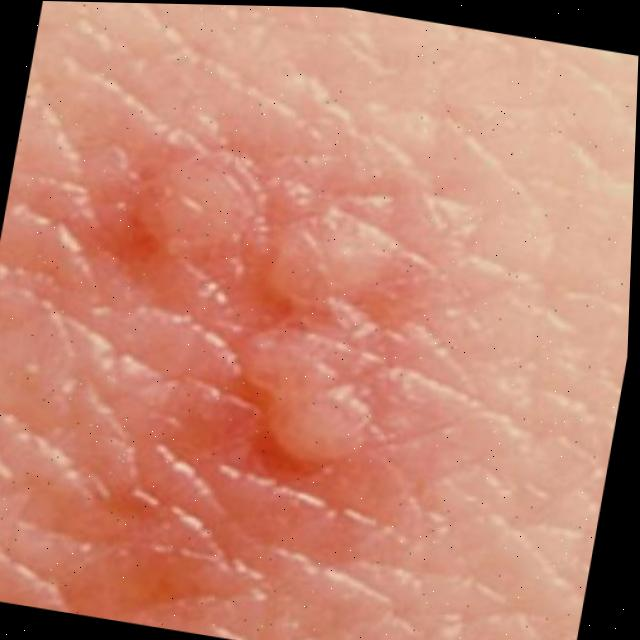Shingles: (120, 123, 434, 485)
